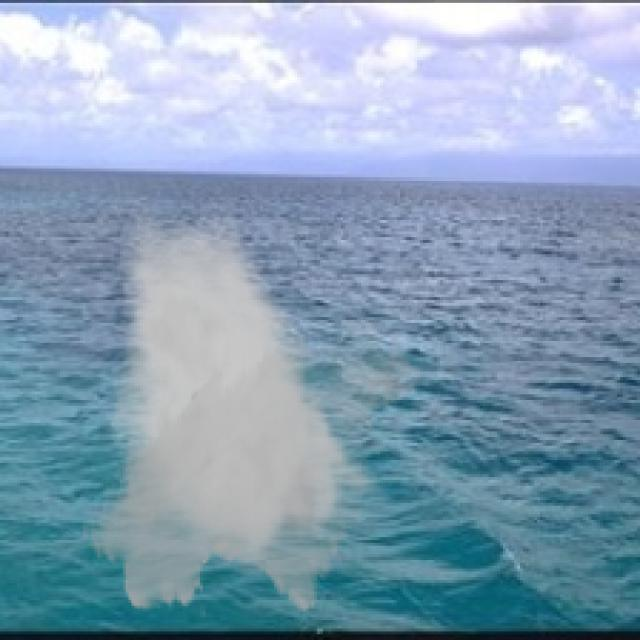Smoke: (80, 197, 423, 623)
